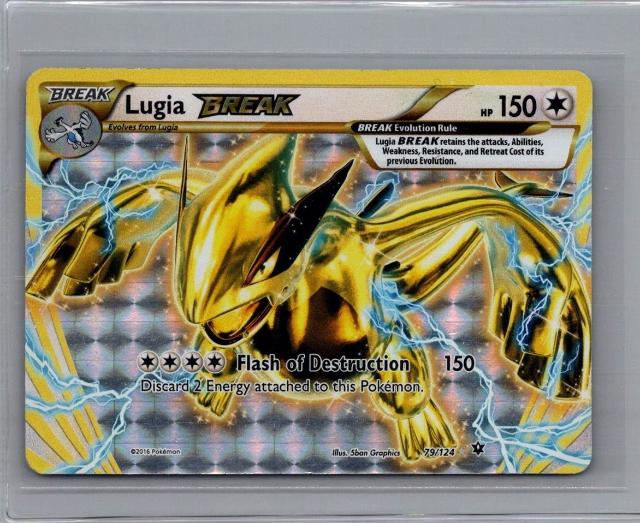Card: (17, 63, 598, 482)
Name: (119, 88, 306, 124)
